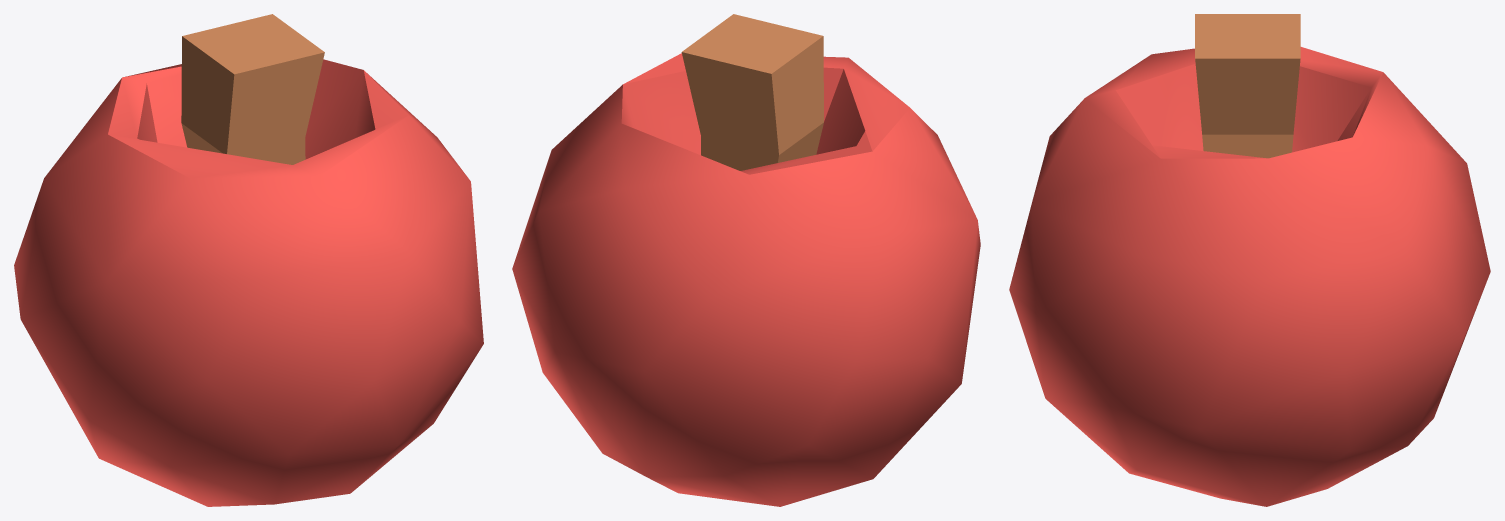
File: Apple_B.fbx
The picture shows the model from 3 angles, left to right: view 1: azimuth 30°, elevation 25°; view 2: azimuth 150°, elevation 25°; view 3: azimuth 270°, elevation 25°; orthographic projection.
Visible parts, largest first — view 1: Apple_B; view 2: Apple_B; view 3: Apple_B.
Part boxes in pixels (x1,y1,x2,y2): Apple_B: (14,14,483,506); Apple_B: (512,14,980,506); Apple_B: (1009,14,1490,506).
Bounding box in the file's own units: 43.61 × 45.87 × 45.01.
